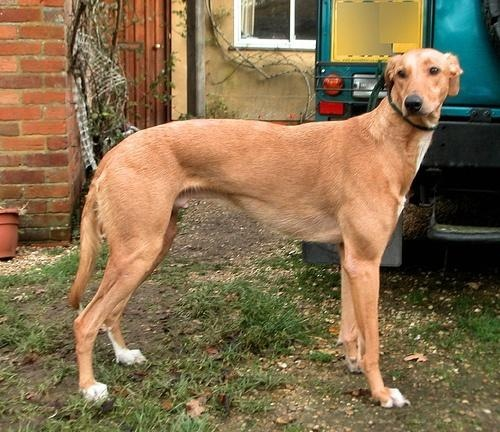dog: (59, 47, 466, 413)
